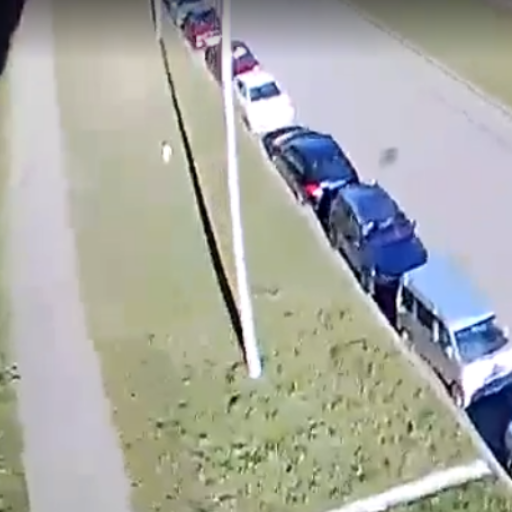Car: (394, 262, 512, 402), (325, 181, 432, 291), (264, 122, 363, 207), (229, 69, 295, 135), (202, 36, 262, 84), (182, 7, 229, 47)
